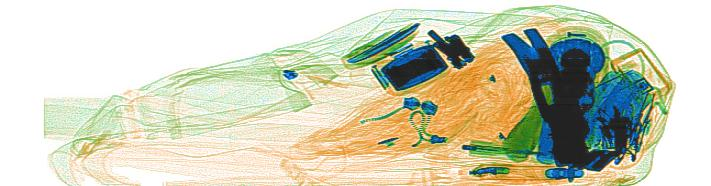battery: (569, 70, 649, 150)
